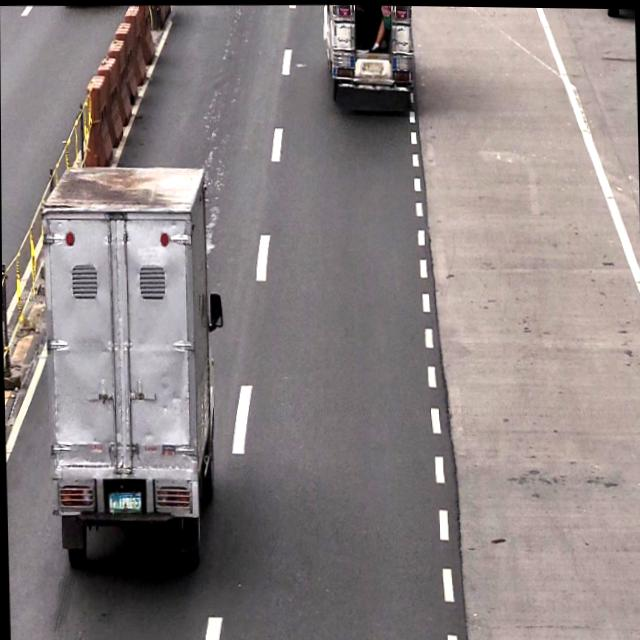Jeep: (324, 4, 416, 101)
License-Plate: (108, 490, 144, 513)
Truck: (40, 163, 216, 555)
